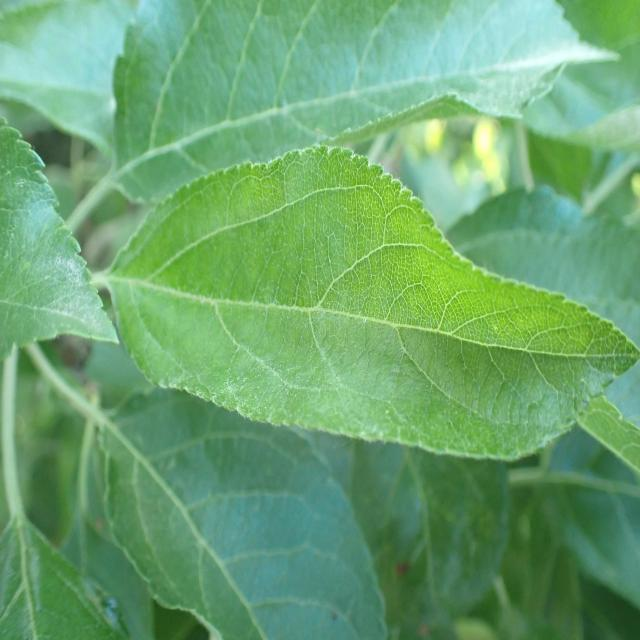healthy: (107, 144, 640, 462), (111, 0, 621, 206), (97, 387, 389, 640), (0, 119, 120, 360), (0, 515, 130, 640)
